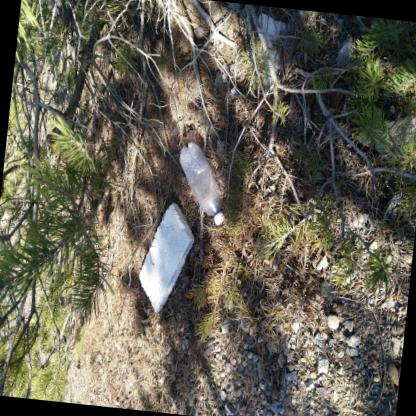Plastic: (179, 141, 225, 224), (359, 115, 416, 159), (214, 212, 225, 224)
Waste: (139, 201, 194, 311), (230, 85, 235, 94)
